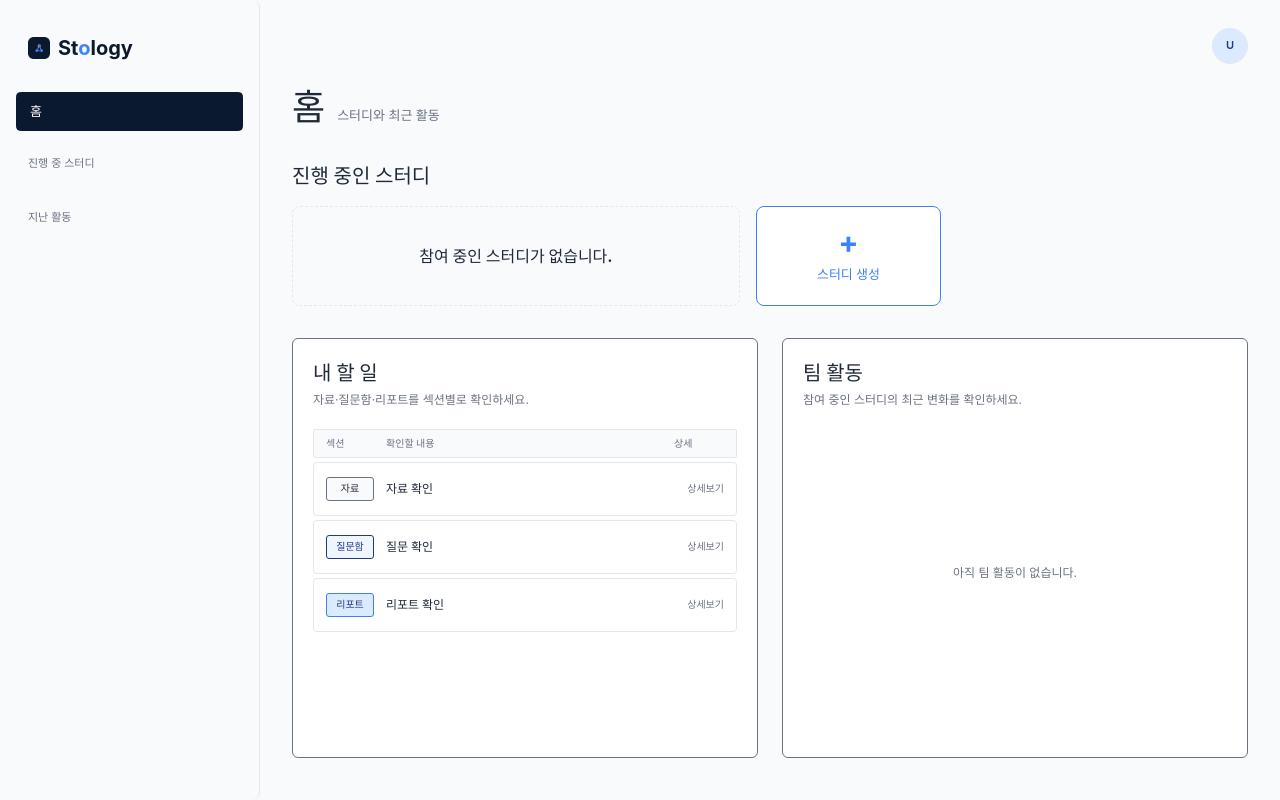
HomePage routing › 내 할 일 상세보기로 0 모달을 연다
Click the button "상세보기" in the row of "자료 확인". click: (706, 488)
box: [687,481,724,496]
(page scrolled)
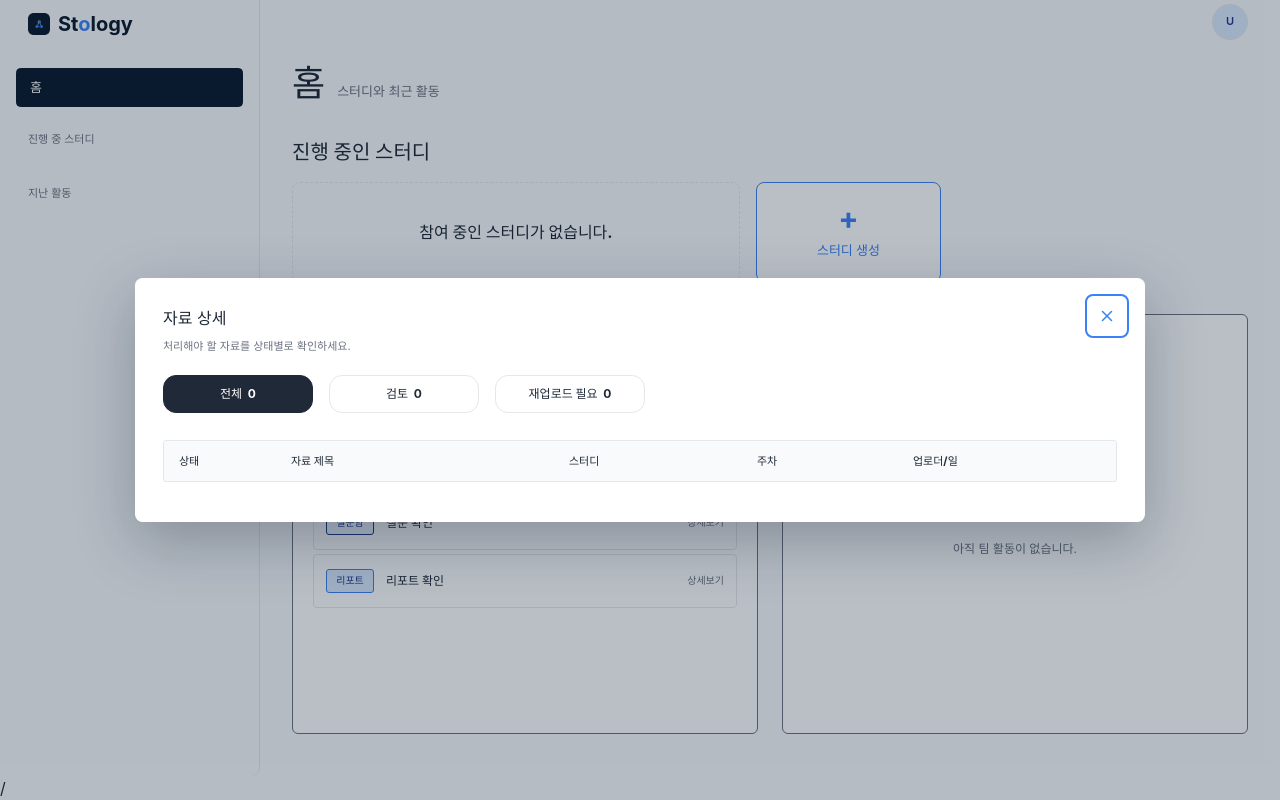
Expected: the text named "현재 경로" reads "/", [0,778,6,798]
Result: the dialog "자료 상세" is shown at [135,278,1145,522]
